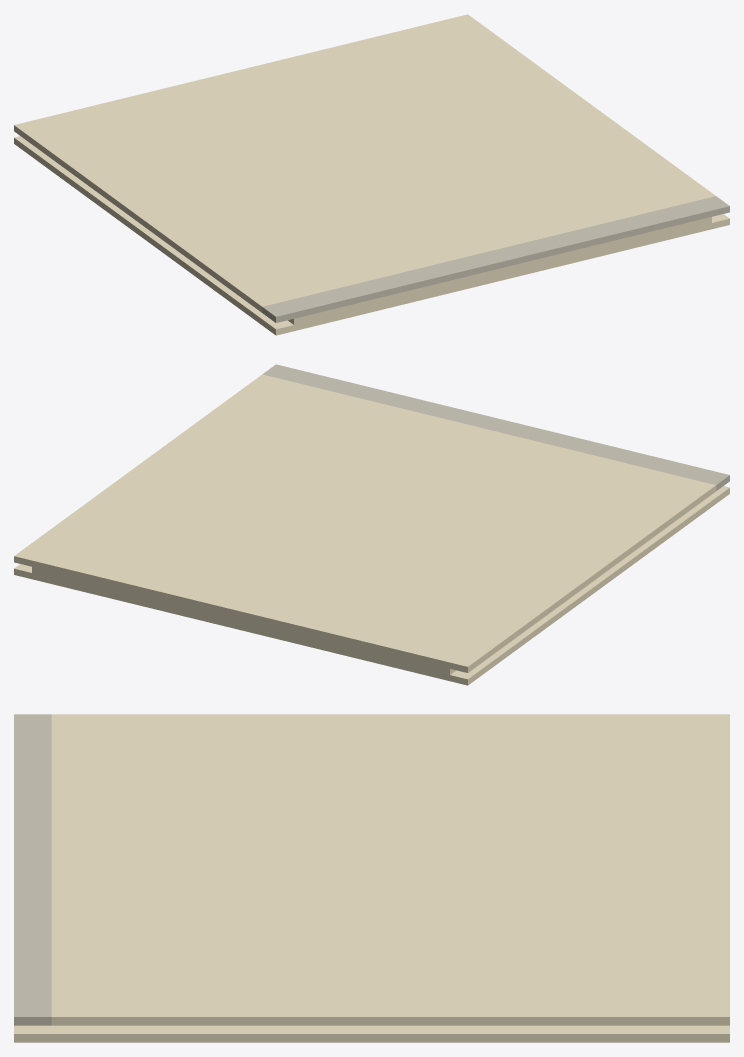
The model's file is sheet_cotton.glb.
3 renders of one model, top to bottom at view 1: azimuth 30°, elevation 25°; view 2: azimuth 150°, elevation 25°; view 3: azimuth 270°, elevation 25°, orthographic. The views are drawn at different scales.
Parts seen in each view (by area): view 1: sheet_cotton:compound; view 2: sheet_cotton:compound; view 3: sheet_cotton:compound.
Boxes of the visible parts, x1,y1,x2,y2 form: sheet_cotton:compound: [14, 14, 729, 335]; sheet_cotton:compound: [14, 364, 729, 685]; sheet_cotton:compound: [14, 714, 729, 1042].
Bounding box in the file's own units: 0.152 × 0.006 × 0.152.
